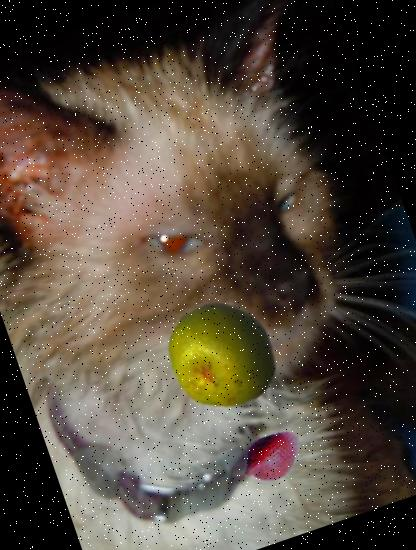Pomelo: (151, 285, 292, 426)
Salak: (231, 416, 314, 499)
